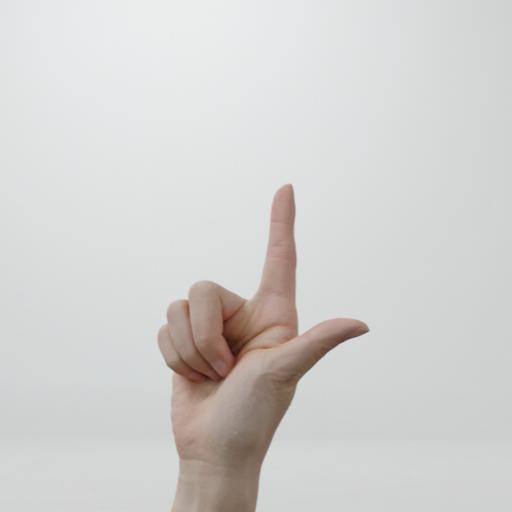L: (120, 167, 401, 509)
